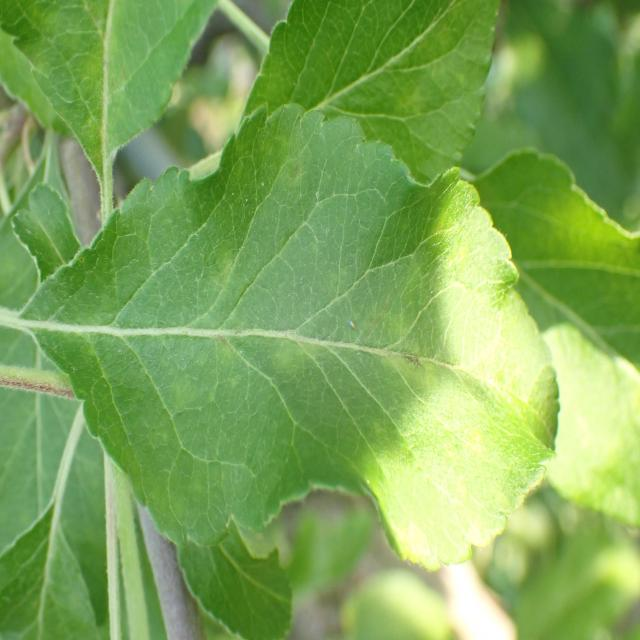scab: (101, 174, 442, 512)
